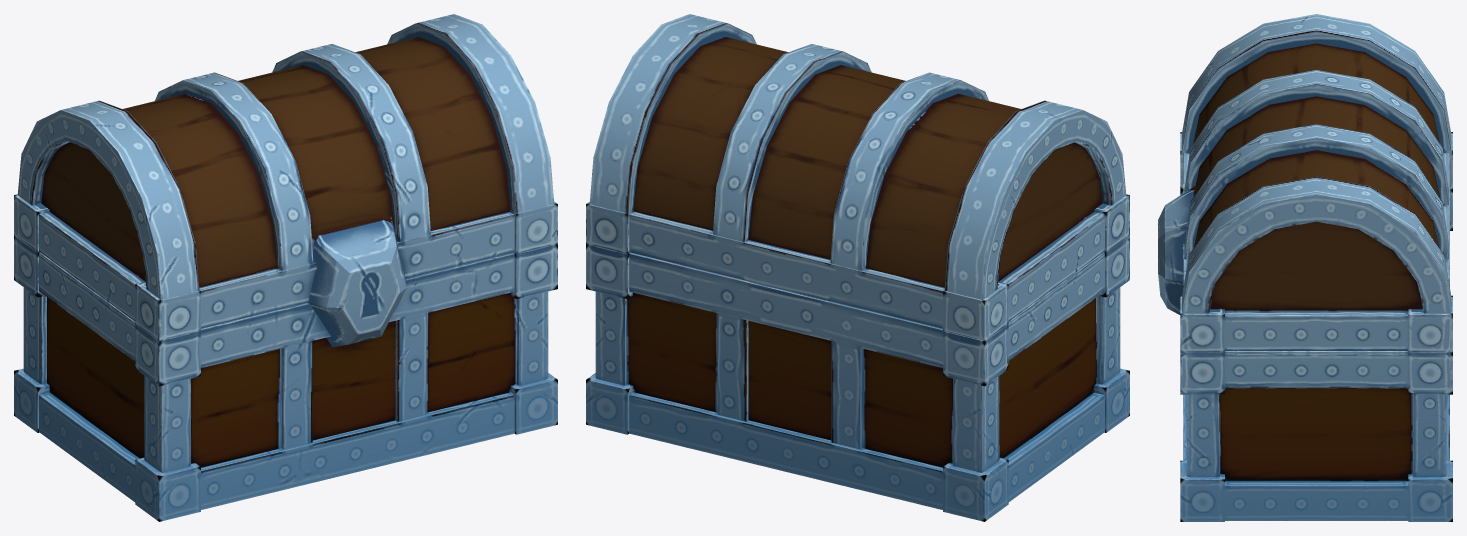
File: chest4.glb
3 renders of one model, left to right at view 1: azimuth 30°, elevation 25°; view 2: azimuth 150°, elevation 25°; view 3: azimuth 270°, elevation 25°, orthographic. The views are drawn at different scales.
Parts seen in each view (by area): view 1: Cube.002; view 2: Cube.002; view 3: Cube.002.
Part boxes in pixels (box(x1,y1,x2,y2)): Cube.002: box(14, 14, 557, 521); Cube.002: box(586, 14, 1129, 521); Cube.002: box(1158, 14, 1452, 521).
Bounding box in the file's own units: 3.52 × 2.93 × 2.4.
Materials: 1 (1 with a texture image).
